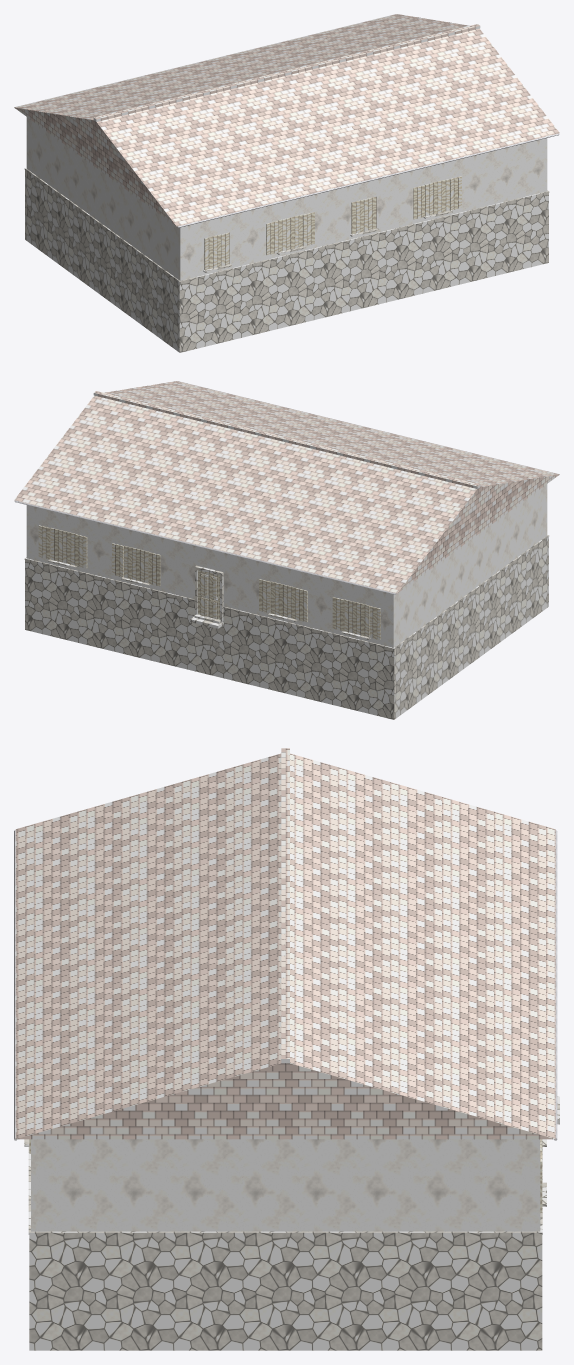
3 renders of one model, top to bottom at view 1: azimuth 30°, elevation 25°; view 2: azimuth 150°, elevation 25°; view 3: azimuth 270°, elevation 25°, orthographic. The views are drawn at different scales.
Visible parts, largest first — view 1: b615242525; view 2: b615242525; view 3: b615242525.
Boxes of the visible parts, x1,y1,x2,y2 form: b615242525: (14,14,559,352); b615242525: (14,381,559,719); b615242525: (14,748,559,1350).
Bounding box in the file's own units: 16.94 × 7.57 × 12.58.
Materials: 16 (16 with a texture image).
